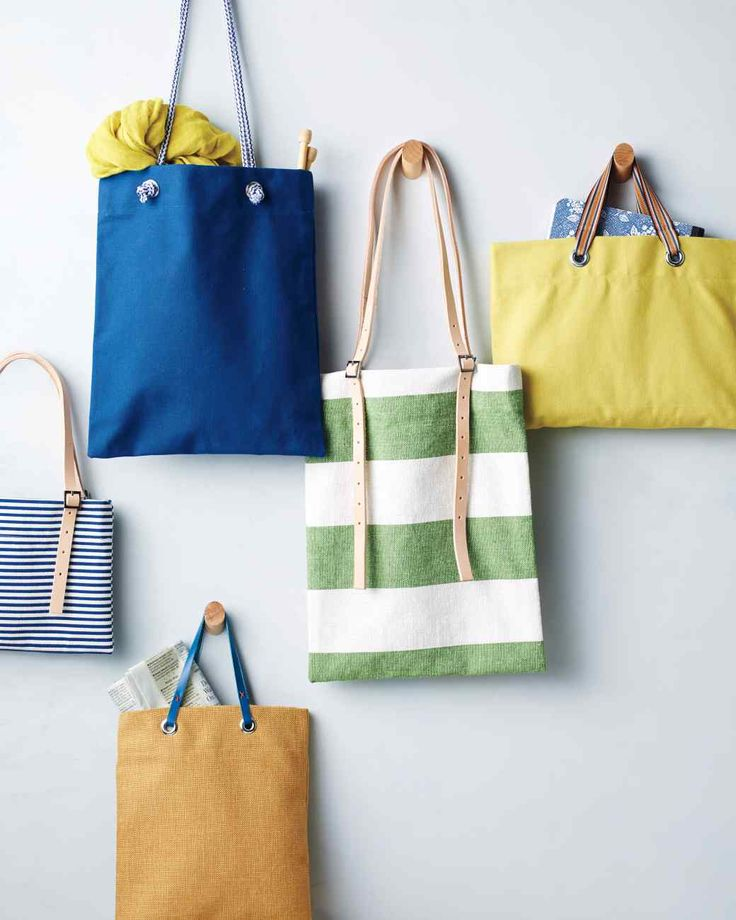nylon: (3, 163, 736, 920)
